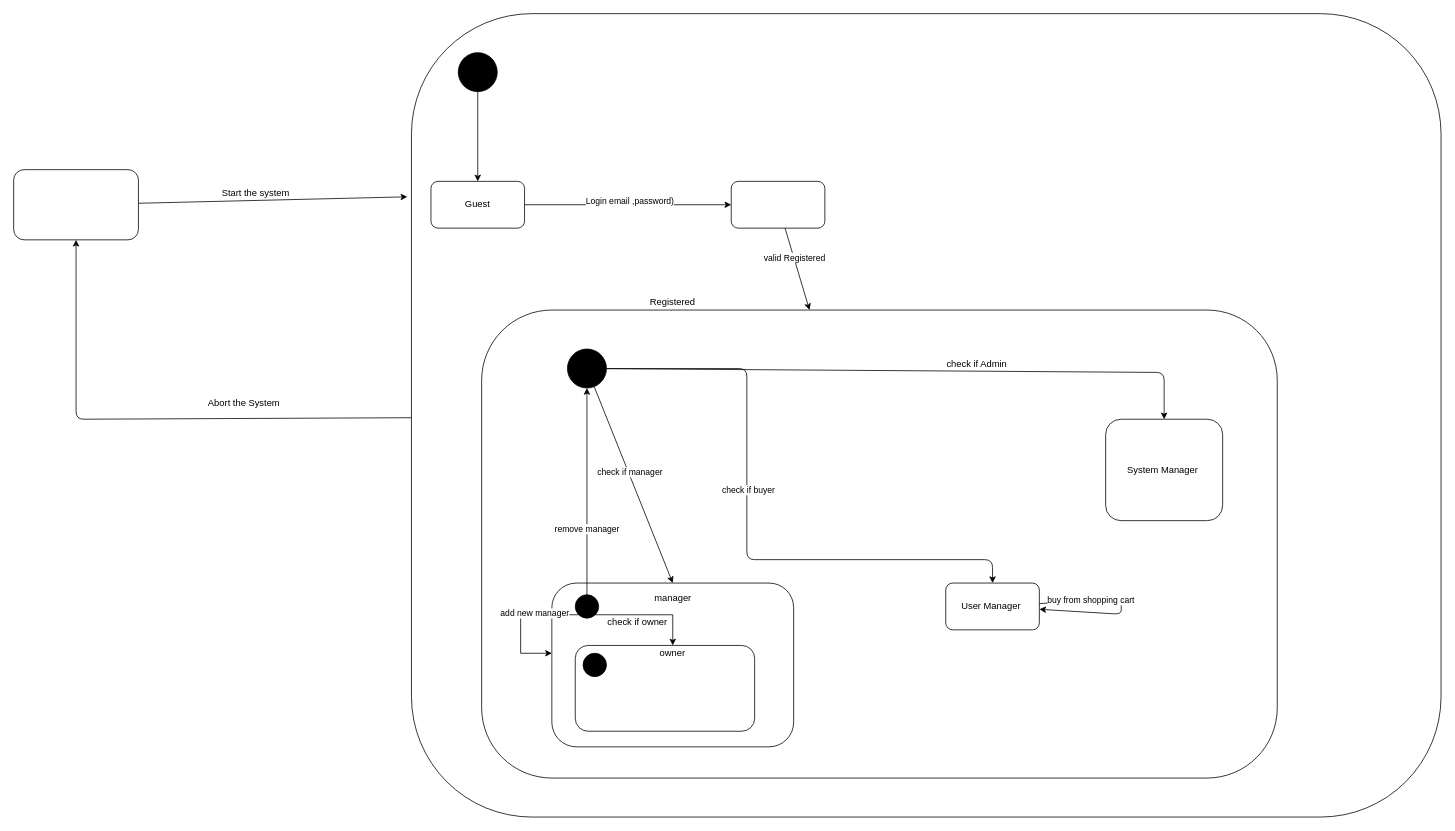
Some shapes in this 1455 by 831 pixel diagram are drawn without their labels. Each missing label, with the centre of its shape:
"disconnected" belongs at [75,204].
"Verification Authenication" belongs at [777,204].
